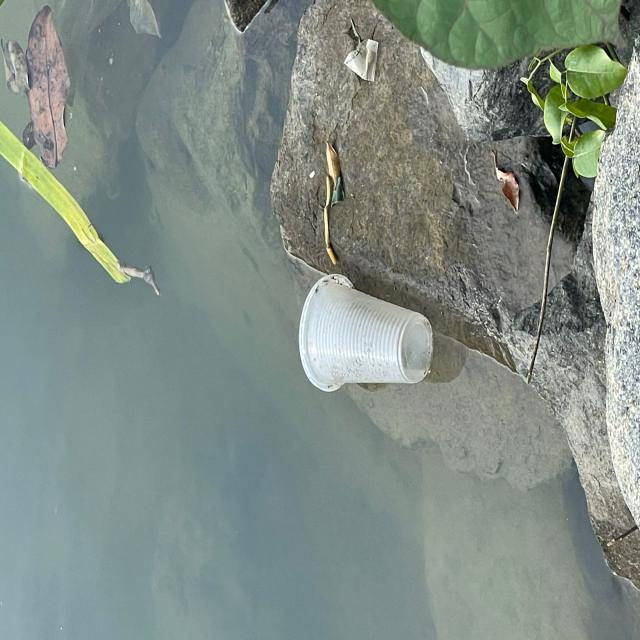Bungkus Minuman: (296, 268, 435, 405)
